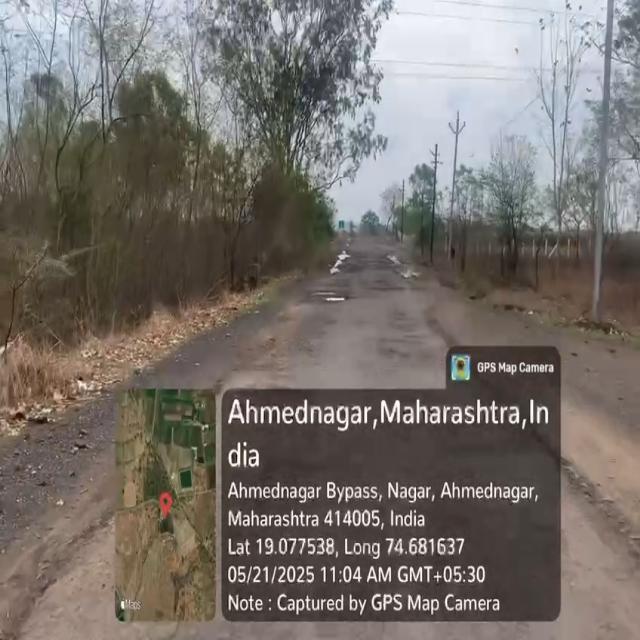pothole: (318, 288, 353, 306)
